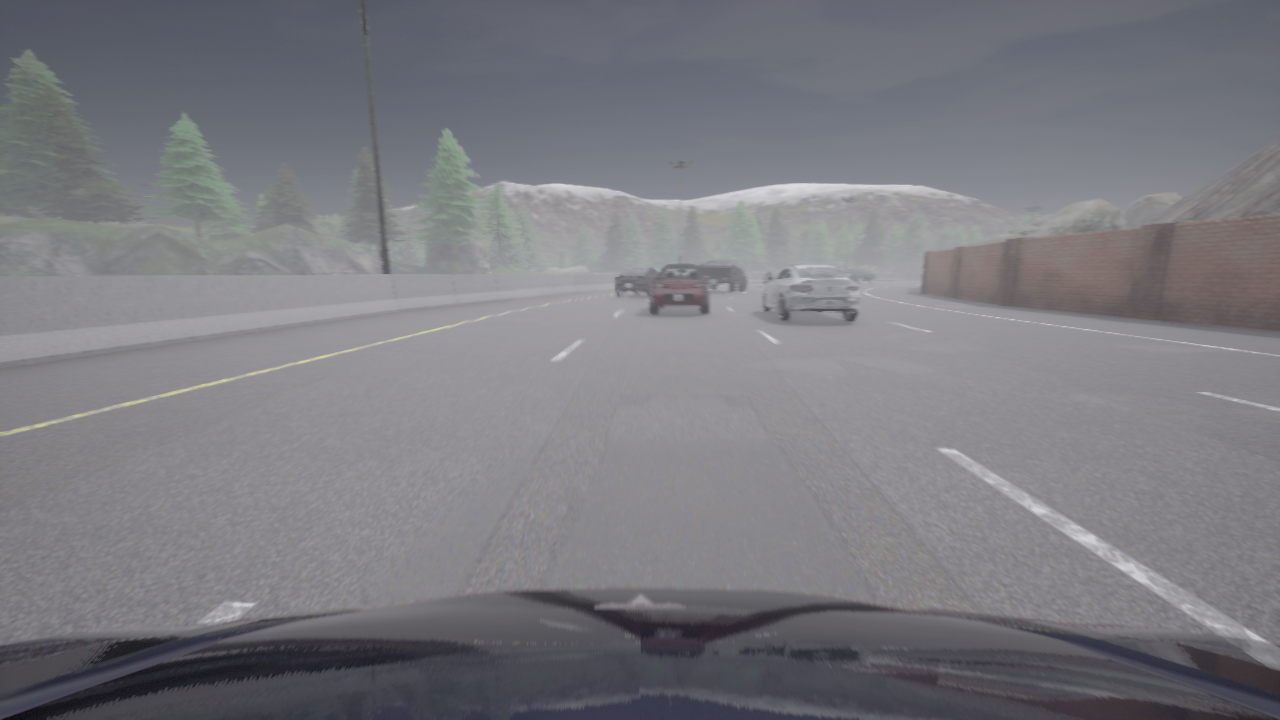cyclist: (0, 588, 1279, 719), (762, 264, 859, 321), (650, 265, 708, 314), (696, 259, 746, 292), (613, 267, 658, 297), (843, 269, 873, 284), (762, 274, 774, 286)
